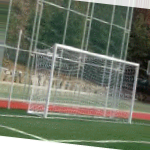goals: (27, 41, 141, 130)
